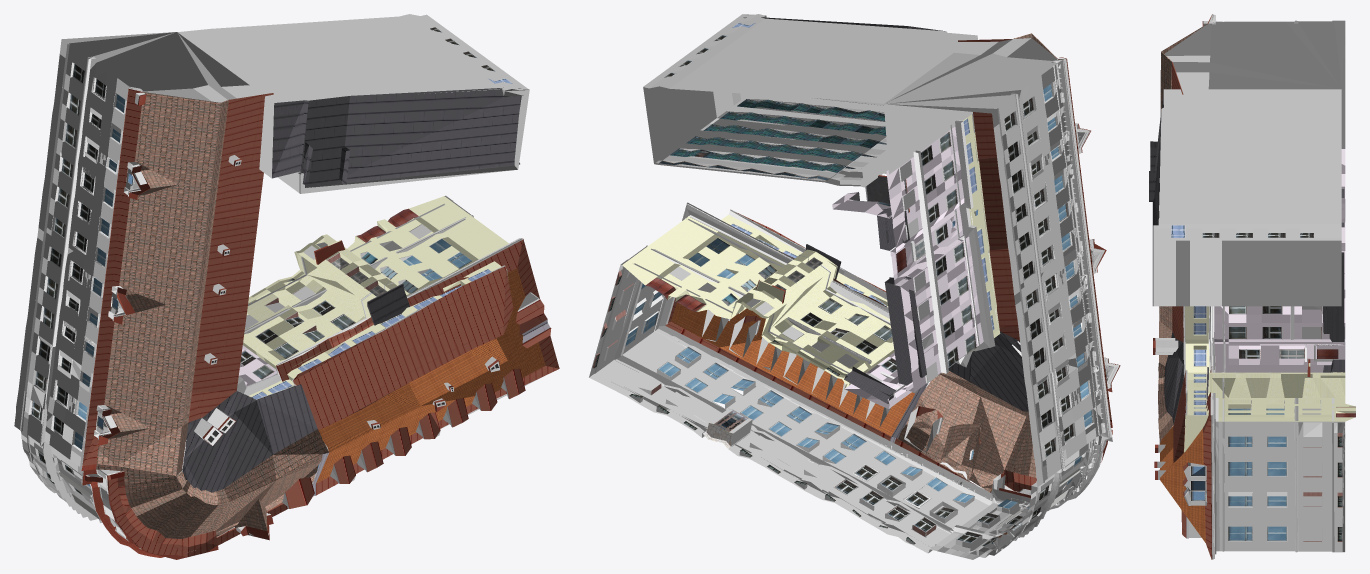
File: Harju_11-origo.obj
The picture shows the model from 3 angles, left to right: view 1: azimuth 30°, elevation 25°; view 2: azimuth 150°, elevation 25°; view 3: azimuth 270°, elevation 25°; orthographic projection. The views are drawn at different scales.
Parts seen in each view (by area): view 1: Harju_11; view 2: Harju_11; view 3: Harju_11.
Part boxes in pixels (x1,y1,x2,y2): Harju_11: (14, 14, 559, 559); Harju_11: (588, 14, 1120, 559); Harju_11: (1149, 14, 1355, 559).
Size of the model in its own units: 51.94 by 50 by 21.23.
